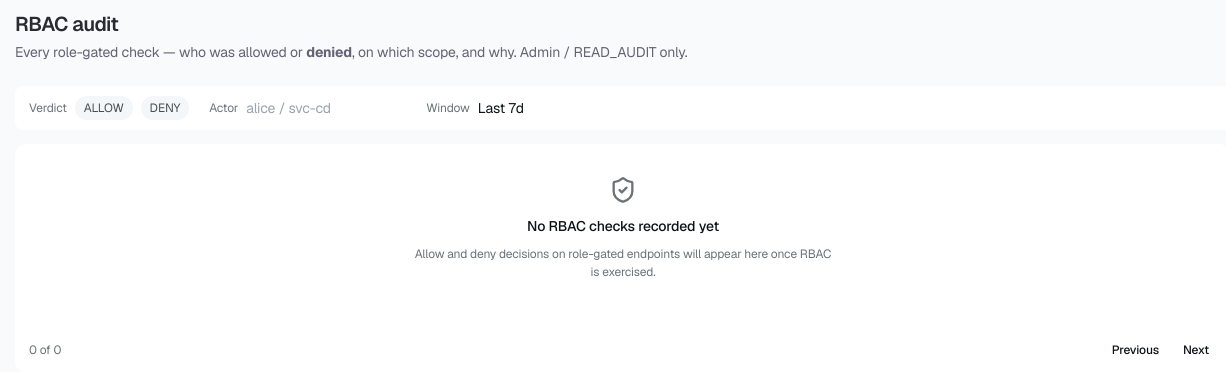
it: RbacAuditPage › distinguishes the system-quiet empty from the filter-too-narrow empty
This screenshot has width=1226, height=372.
Expected: the message with test id "rbac-audit-empty" shows "No RBAC checks recorded yet", [527,217,719,235]
// Toggle a verdict chip → filters active → filter-too-narrow copy.
Click the button with test id "filter-verdict-DENY" at (165, 108), box [141,96,189,120]
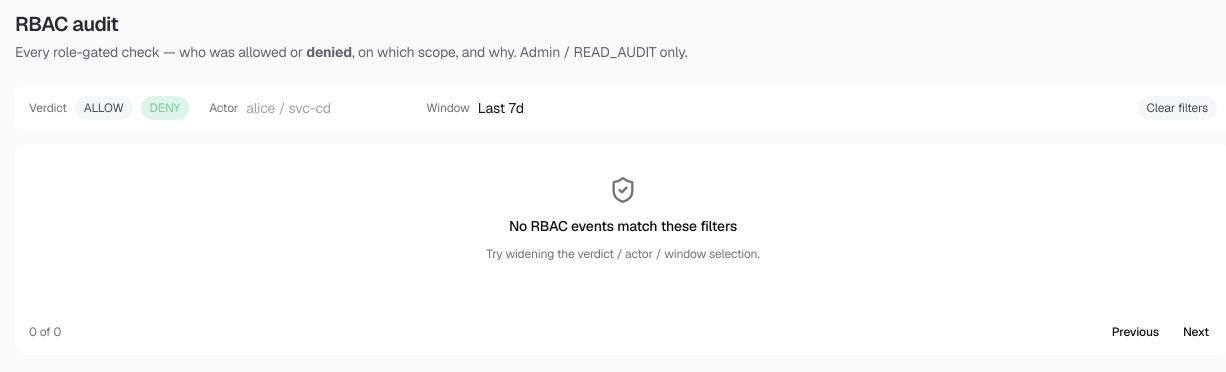
Result: the message with test id "rbac-audit-empty" shows "No RBAC events match these filters" at [509,217,737,235]
